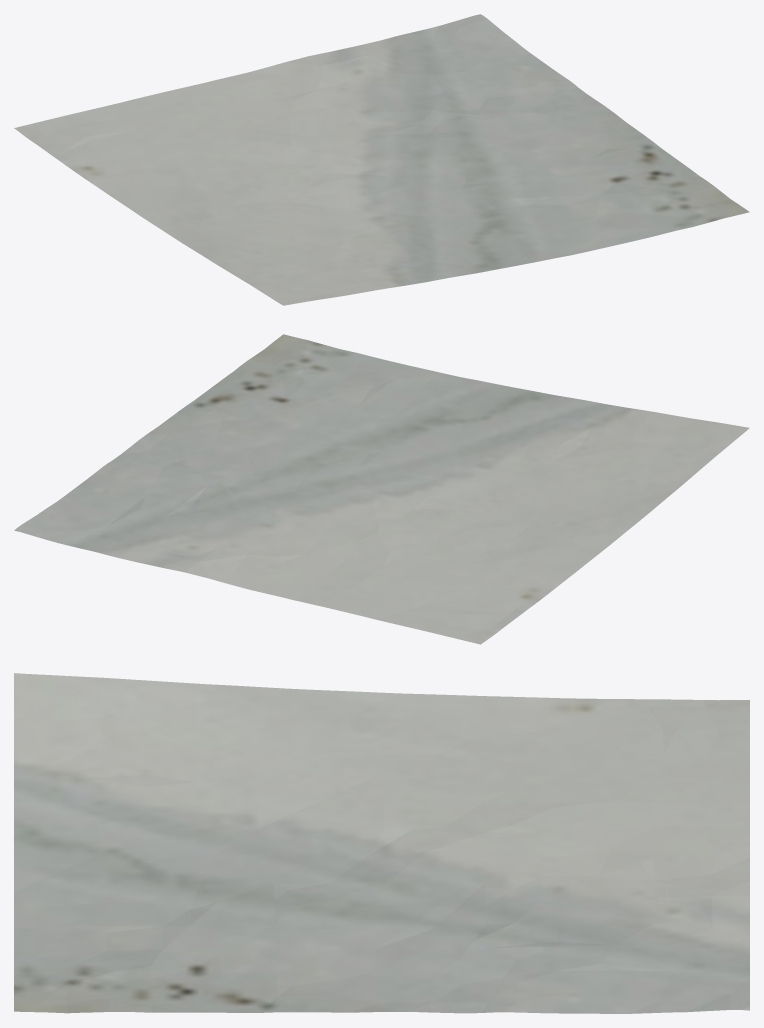
3 renders of one model, top to bottom at view 1: azimuth 30°, elevation 25°; view 2: azimuth 150°, elevation 25°; view 3: azimuth 270°, elevation 25°, orthographic. The views are drawn at different scales.
Bounding box in the file's own units: 52.22 × 2.35 × 52.22.
2 materials, 2 textured.
